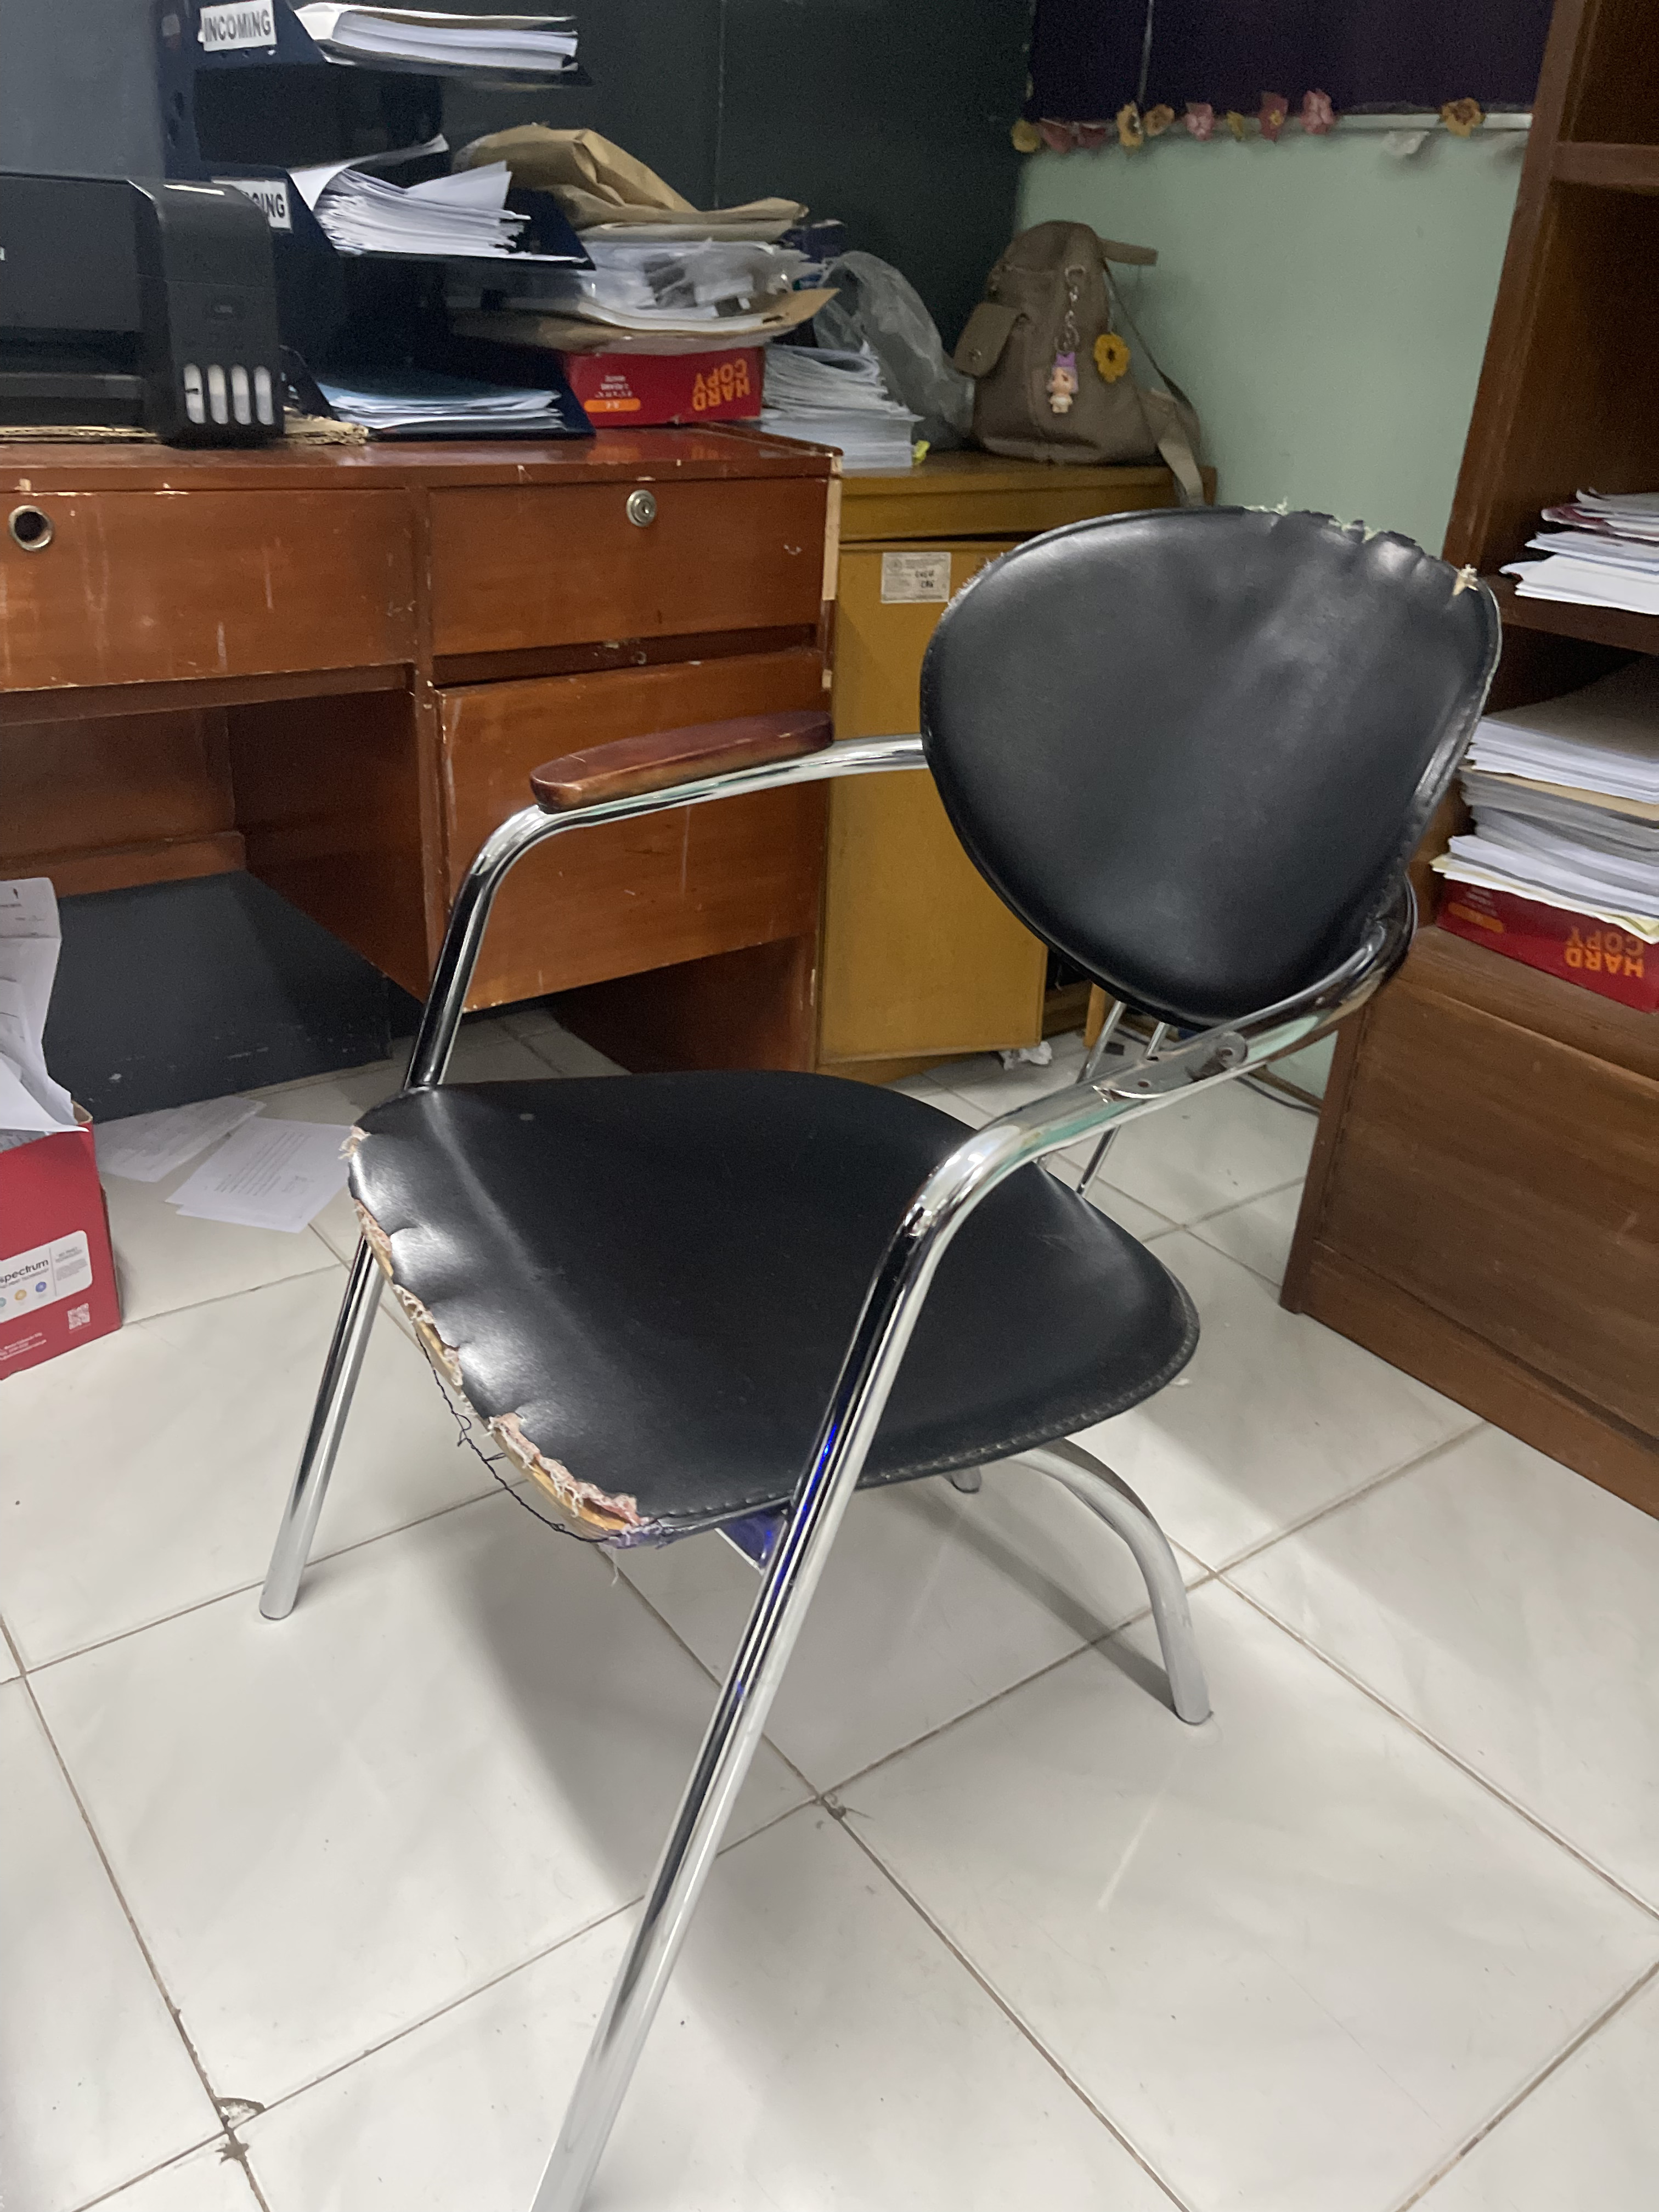chair1: (237, 498, 1511, 2212)
